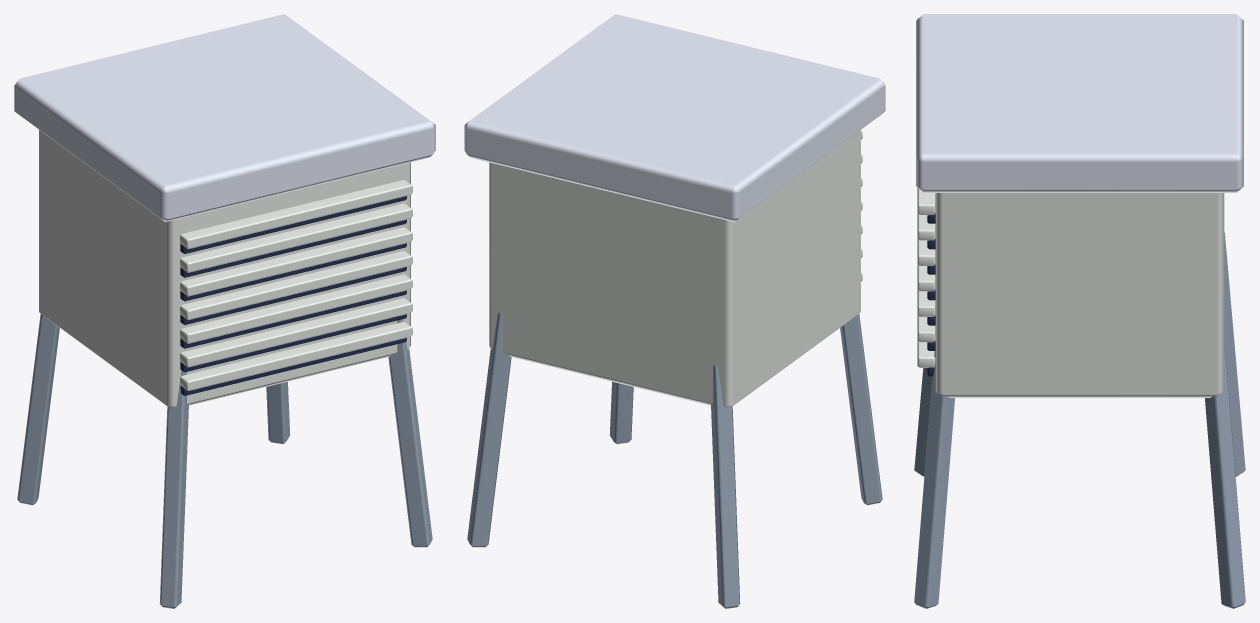
The model's file is weather_screen.glb.
The picture shows the model from 3 angles, left to right: view 1: azimuth 30°, elevation 25°; view 2: azimuth 150°, elevation 25°; view 3: azimuth 270°, elevation 25°; orthographic projection. The views are drawn at different scales.
Parts seen in each view (by area): view 1: weather_screen; view 2: weather_screen; view 3: weather_screen.
Part boxes in pixels (x1,y1,x2,y2): weather_screen: (14, 14, 435, 608); weather_screen: (464, 14, 885, 608); weather_screen: (914, 14, 1245, 608).
Bounding box in the file's own units: 1.32 × 1.94 × 1.27.
